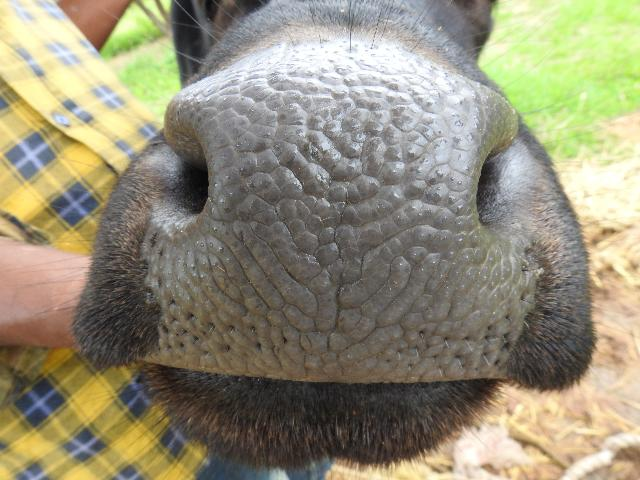Muzzle: (193, 74, 472, 378)
